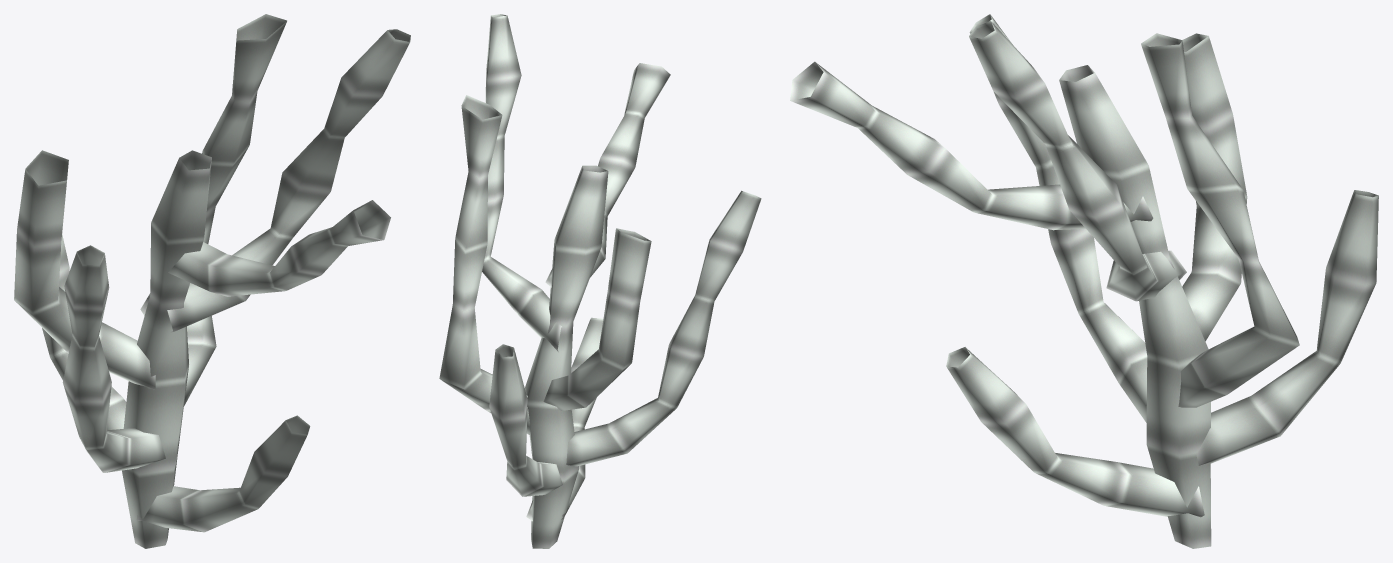
File: SG_envProp_Coral4v4.FBX
3 views of the same model, side by side, from view 1: azimuth 30°, elevation 25°; view 2: azimuth 150°, elevation 25°; view 3: azimuth 270°, elevation 25° (orthographic). The views are drawn at different scales.
Visible parts, largest first — view 1: SG_envProp_Coral4v4; view 2: SG_envProp_Coral4v4; view 3: SG_envProp_Coral4v4.
Part boxes in pixels (x1,y1,x2,y2): SG_envProp_Coral4v4: [14, 14, 410, 548]; SG_envProp_Coral4v4: [439, 14, 761, 548]; SG_envProp_Coral4v4: [790, 14, 1378, 548].
Bounding box in the file's own units: 80.49 × 128 × 114.
Materials: 1 (1 with a texture image).
